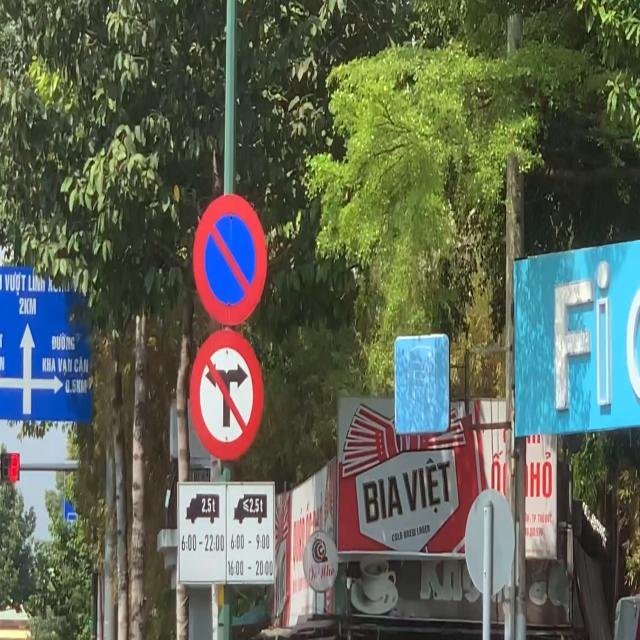Cam con lai: (189, 329, 264, 462)
Cam do: (192, 193, 268, 327)
